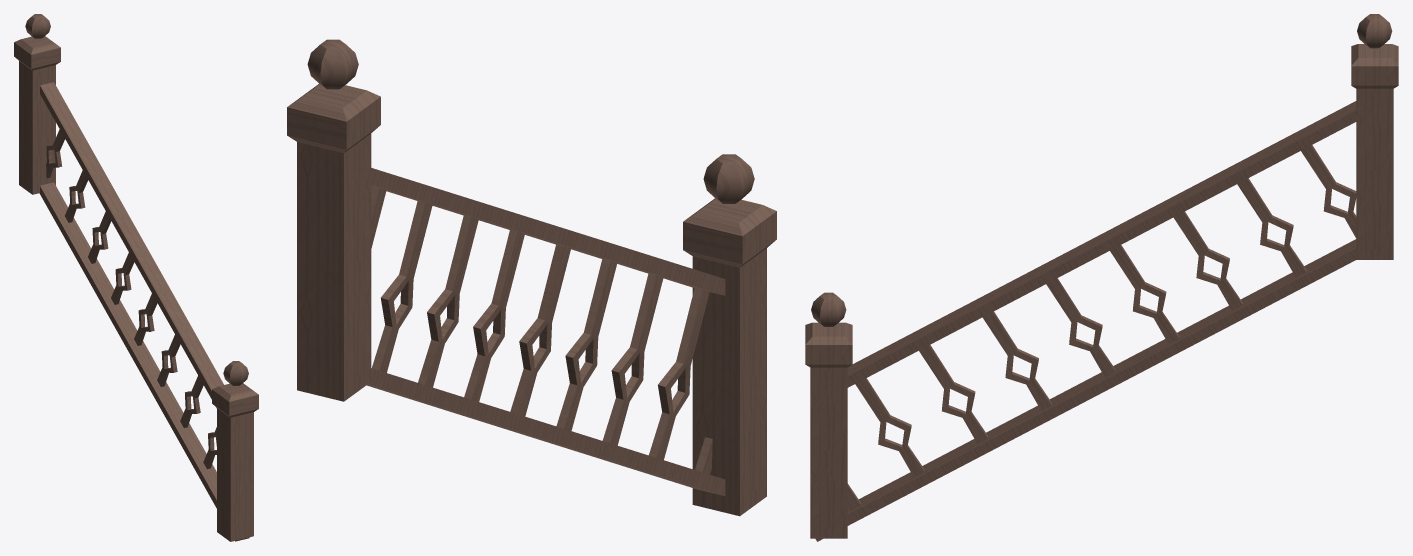
The model's file is StairsRailing.fbx.
3 views of the same model, side by side, from view 1: azimuth 30°, elevation 25°; view 2: azimuth 150°, elevation 25°; view 3: azimuth 270°, elevation 25° (orthographic). The views are drawn at different scales.
Parts seen in each view (by area): view 1: StairRailing, Plup2, Plupp1; view 2: StairRailing, Plupp1, Plup2; view 3: StairRailing, Plup2, Plupp1.
Part boxes in pixels (box(x1,y1,x2,y2)): StairRailing: box(39, 82, 249, 541); Plup2: box(212, 361, 258, 541); Plupp1: box(14, 14, 60, 194); StairRailing: box(366, 168, 725, 495); Plupp1: box(287, 39, 380, 401); Plup2: box(683, 154, 776, 516); StairRailing: box(815, 101, 1356, 541); Plup2: box(805, 292, 852, 538); Plupp1: box(1351, 14, 1398, 259).
Size of the model in its own units: 50.18 by 608 by 628.
